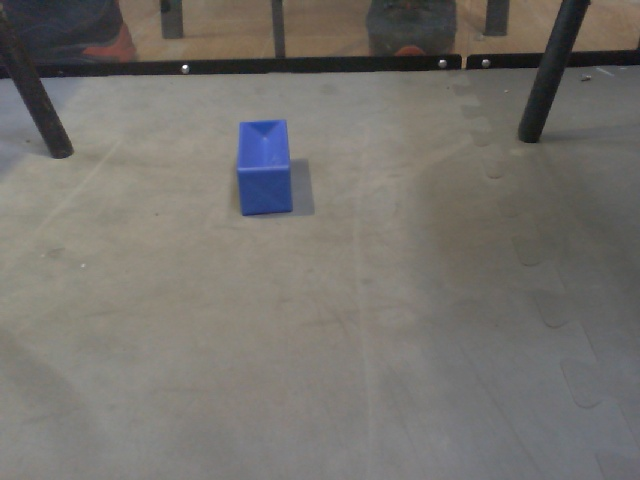BlueSample: (230, 117, 297, 218)
